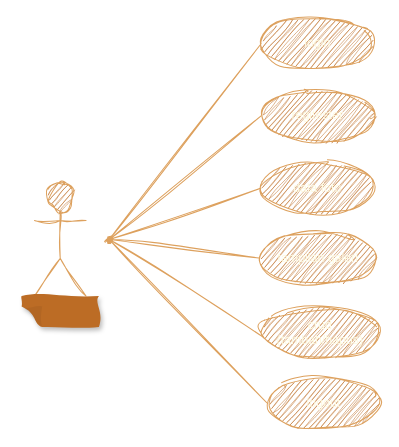
Image size: 399x447. Some labels were removed from this diagram. The centre of each missing label's shape, as x and y in pixels:
Actor: point (59, 239)
users: point (61, 312)
